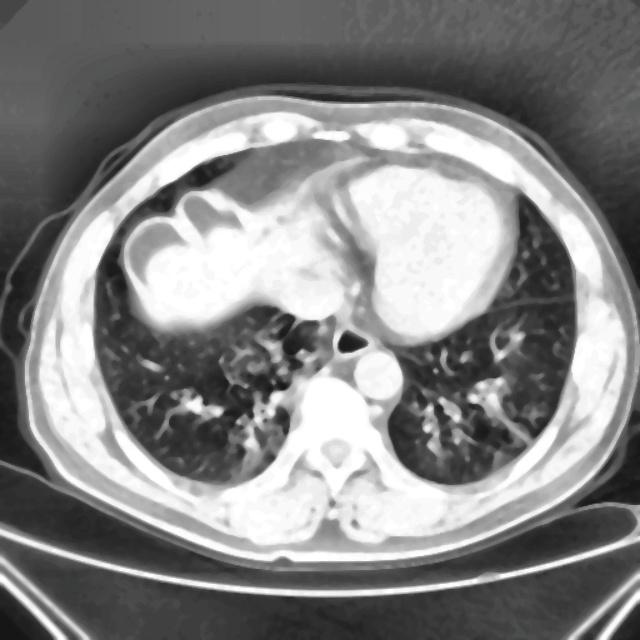covid: (4, 84, 638, 571)
